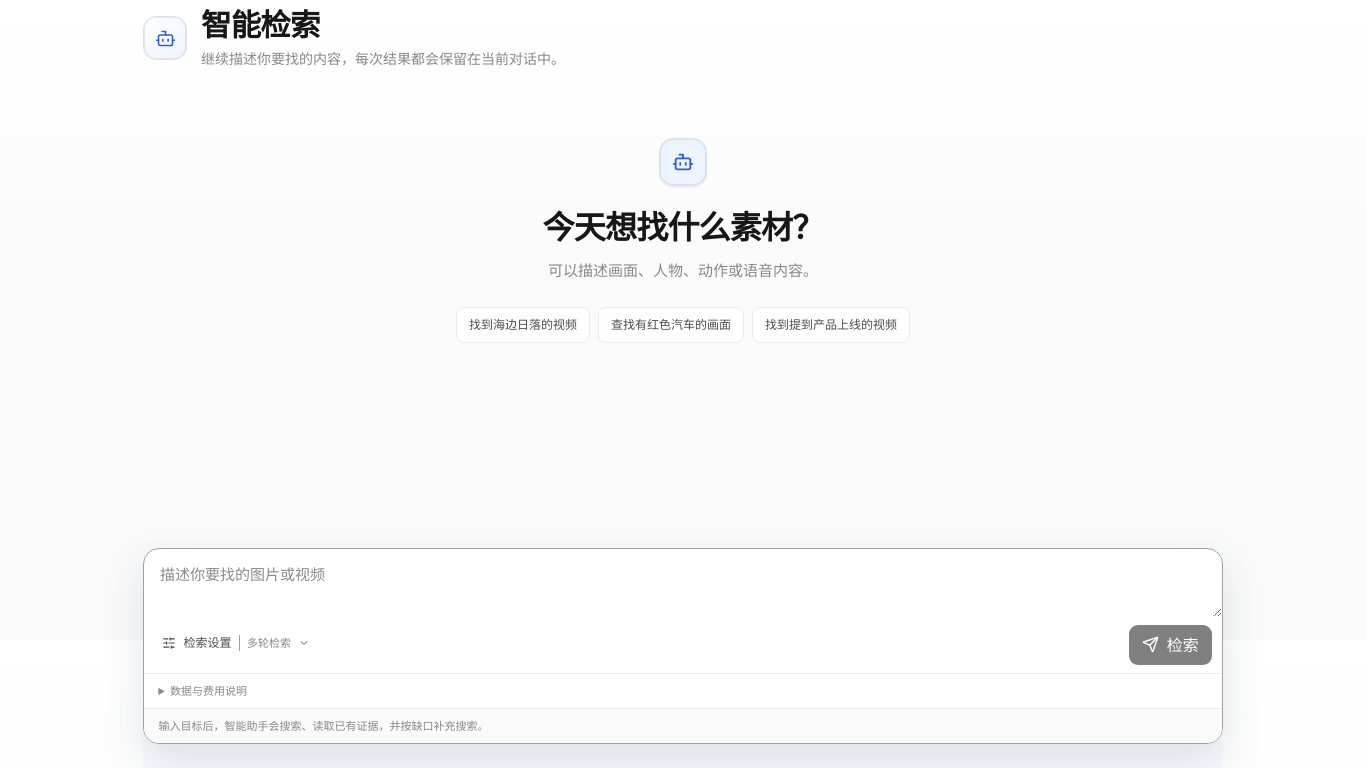
Test: AgentWorkspace › 创建 run 时明确授权本次文本外发，并展示独立 run 状态
Type "查找片段" into the text box named "完整用户请求".
click(683, 583); type("查找片段")  # box [144,549,1222,617]
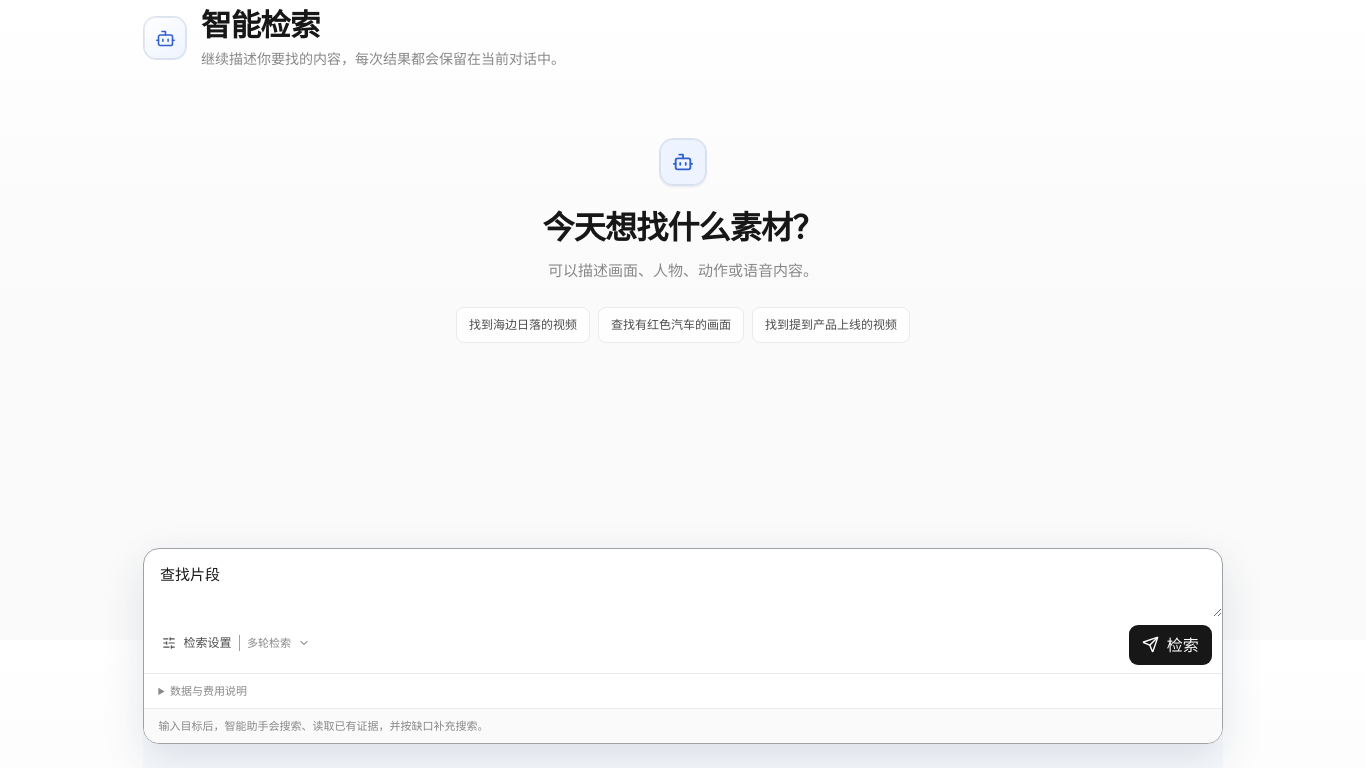
Click the button with aria-label "发送检索请求".
click(1170, 645)  # box [1129,625,1212,665]
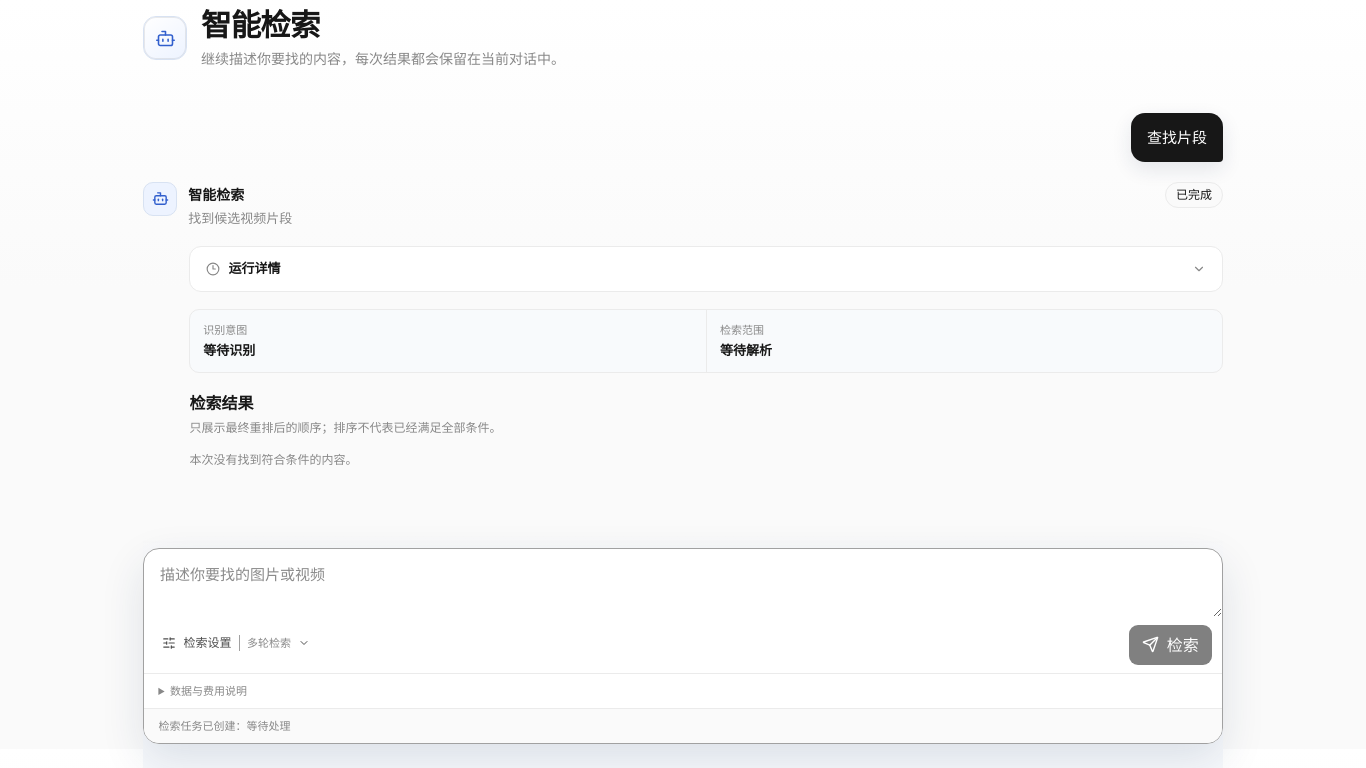
Expected: the text "继续描述你要找的内容，每次结果都会保留在当前对话中。" is shown, [201,48,565,69]
Now the text "已完成" is shown, box [1165,182,1223,208]
